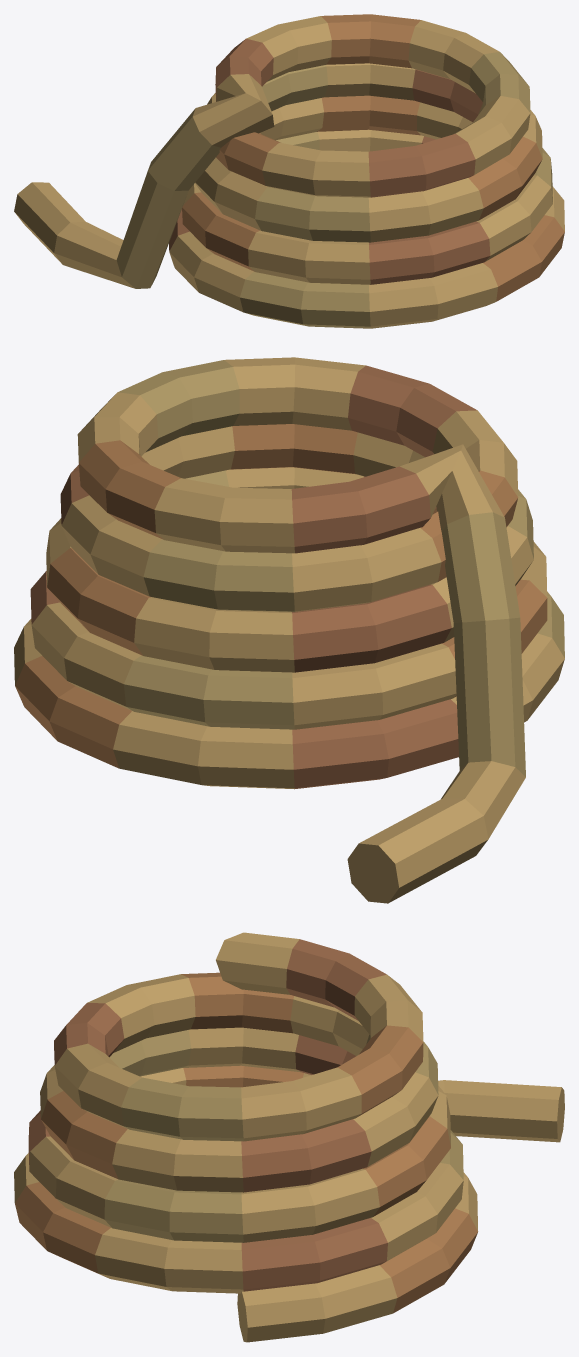
Rendered from mdvl_props_rope_coil_01.glb.
The picture shows the model from 3 angles, top to bottom: view 1: azimuth 30°, elevation 25°; view 2: azimuth 150°, elevation 25°; view 3: azimuth 270°, elevation 25°; orthographic projection. The views are drawn at different scales.
Visible parts, largest first — view 1: mdvl_props_rope_coil_01; view 2: mdvl_props_rope_coil_01; view 3: mdvl_props_rope_coil_01.
Part boxes in pixels (x1,y1,x2,y2): mdvl_props_rope_coil_01: (14, 14, 564, 328); mdvl_props_rope_coil_01: (14, 357, 564, 903); mdvl_props_rope_coil_01: (14, 932, 564, 1342).
Size of the model in its own units: 0.6548 by 0.328 by 0.6575.
Materials: 1 (1 with a texture image).
